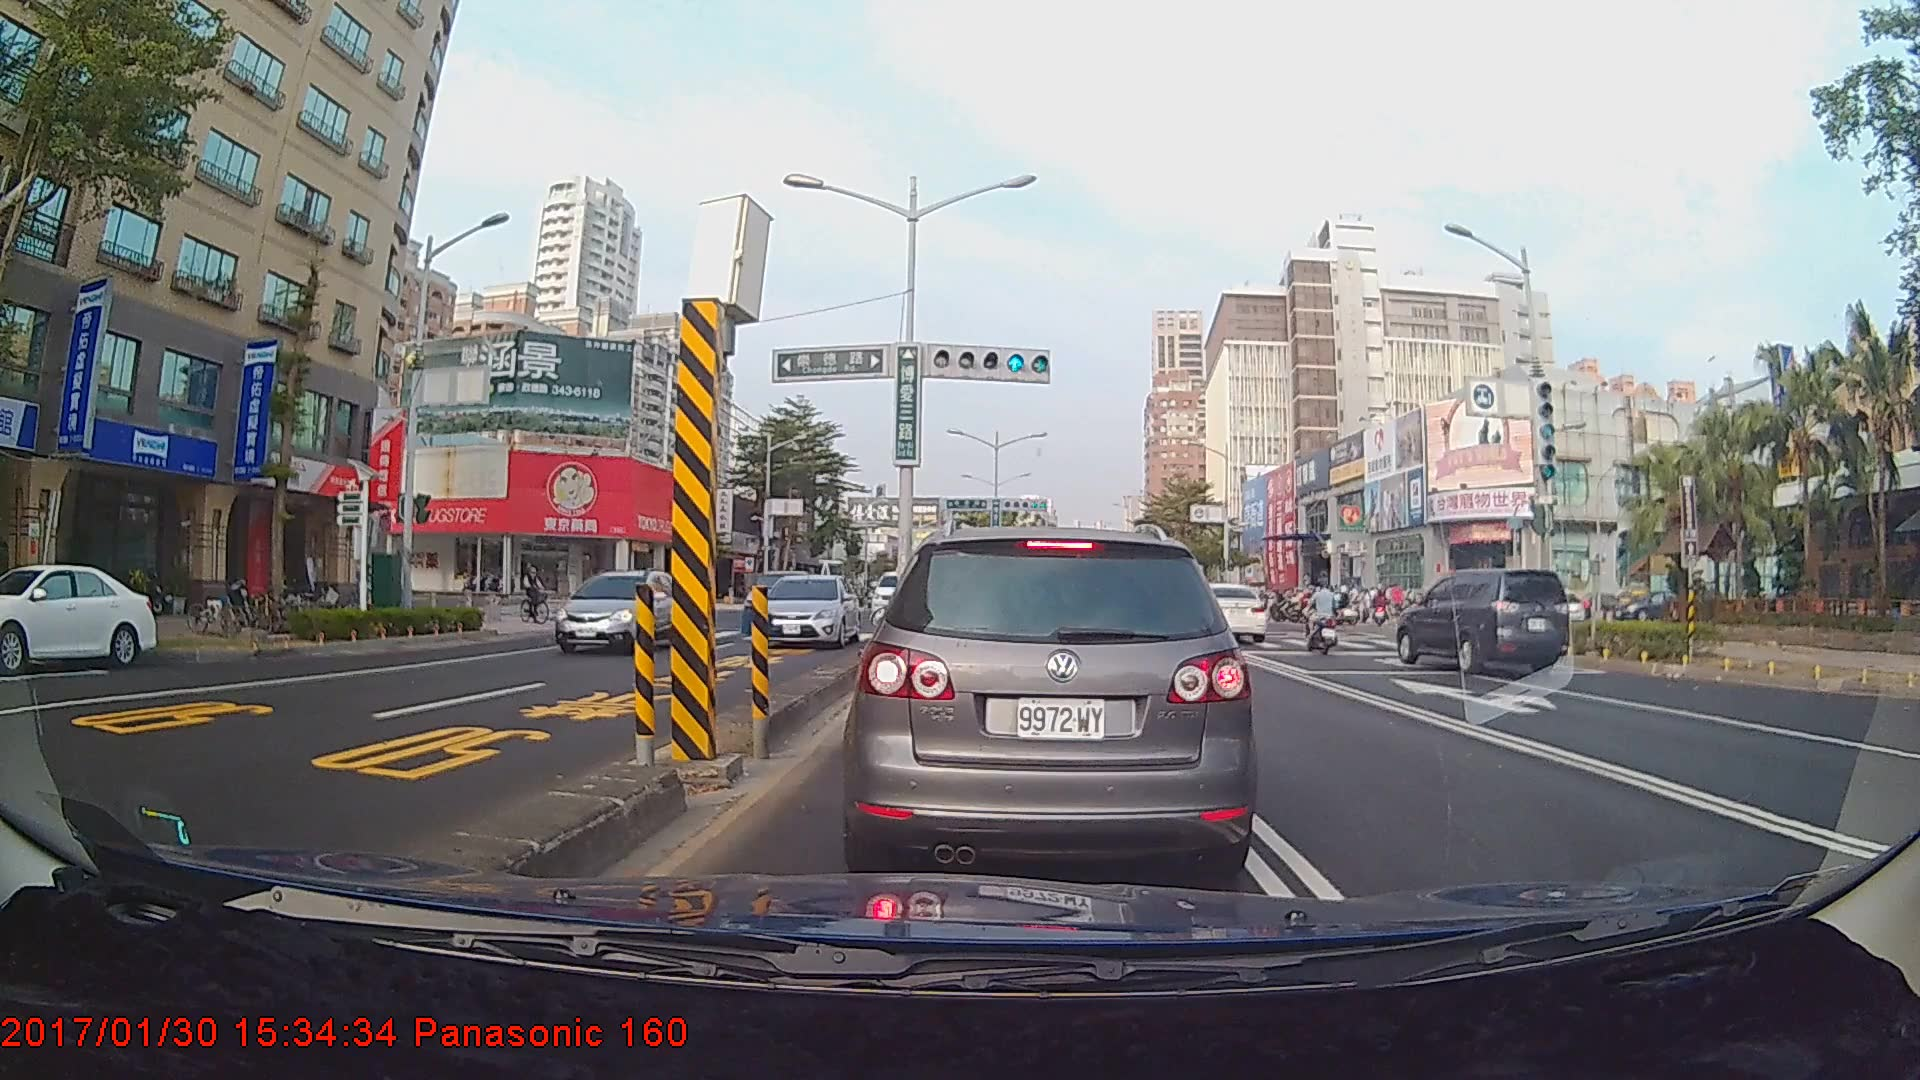rider: (1300, 579, 1350, 654), (518, 559, 561, 629)
vehicle: (856, 521, 1248, 880), (1394, 566, 1570, 674), (0, 561, 157, 671), (554, 565, 684, 654), (759, 572, 861, 649), (1175, 581, 1267, 643), (740, 568, 818, 635)
